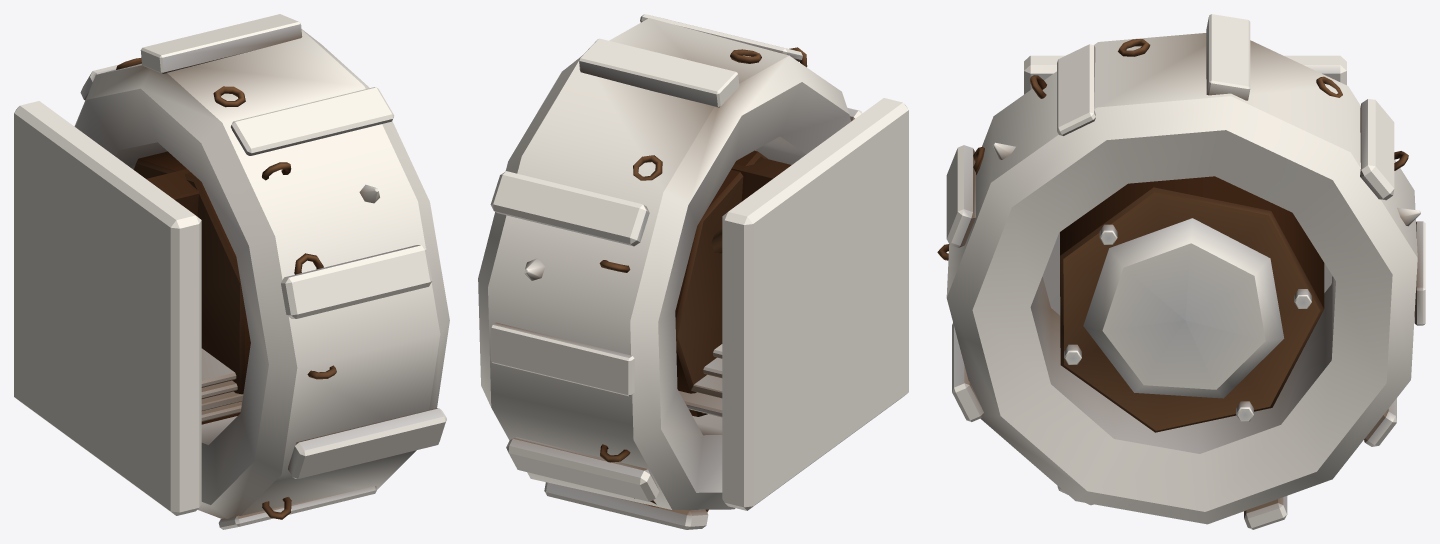
File: R4M_WheelM_Side_Offroad.fbx
3 views of the same model, side by side, from view 1: azimuth 30°, elevation 25°; view 2: azimuth 150°, elevation 25°; view 3: azimuth 270°, elevation 25° (orthographic).
Visible parts, largest first — view 1: R4M_WheelM_Side_Offroad_Rotor, R4M_WheelM_Side_Offroad_Mount; view 2: R4M_WheelM_Side_Offroad_Rotor, R4M_WheelM_Side_Offroad_Mount; view 3: R4M_WheelM_Side_Offroad_Rotor, R4M_WheelM_Side_Offroad_Mount.
Part boxes in pixels (left/top/right/bottom): R4M_WheelM_Side_Offroad_Rotor: left=74, top=14, right=449, bottom=529; R4M_WheelM_Side_Offroad_Mount: left=14, top=101, right=243, bottom=515; R4M_WheelM_Side_Offroad_Rotor: left=478, top=14, right=862, bottom=529; R4M_WheelM_Side_Offroad_Mount: left=678, top=98, right=908, bottom=510; R4M_WheelM_Side_Offroad_Rotor: left=937, top=14, right=1425, bottom=529; R4M_WheelM_Side_Offroad_Mount: left=1024, top=55, right=1346, bottom=315.
Bounding box in the file's own units: 0.448 × 0.7696 × 0.756.
